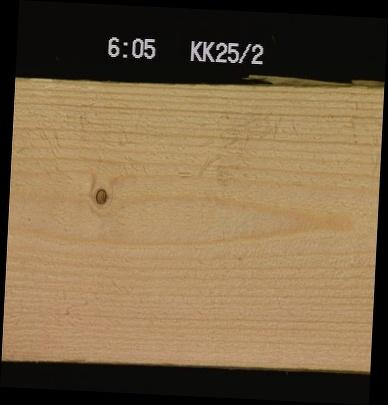dry_knot: (92, 185, 108, 205)
